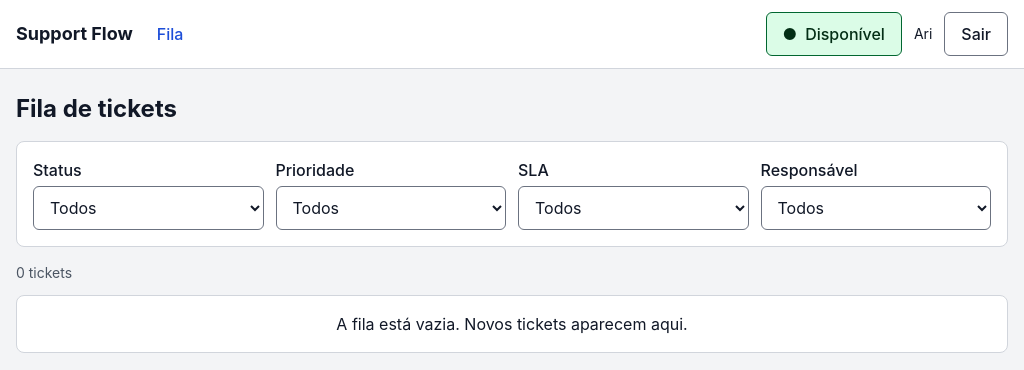
Test case: listas › erro na chave mantém o estado anterior e explica
Click the switch at [834, 34], box [766,12,902,56]
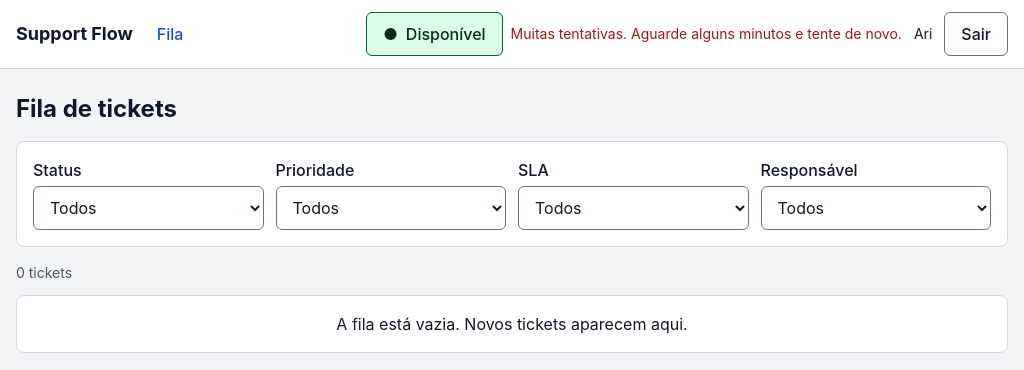
expect the message "Muitas tentativas. Aguarde alguns minutos e tente de novo." is shown: met, box [511,24,902,44]
